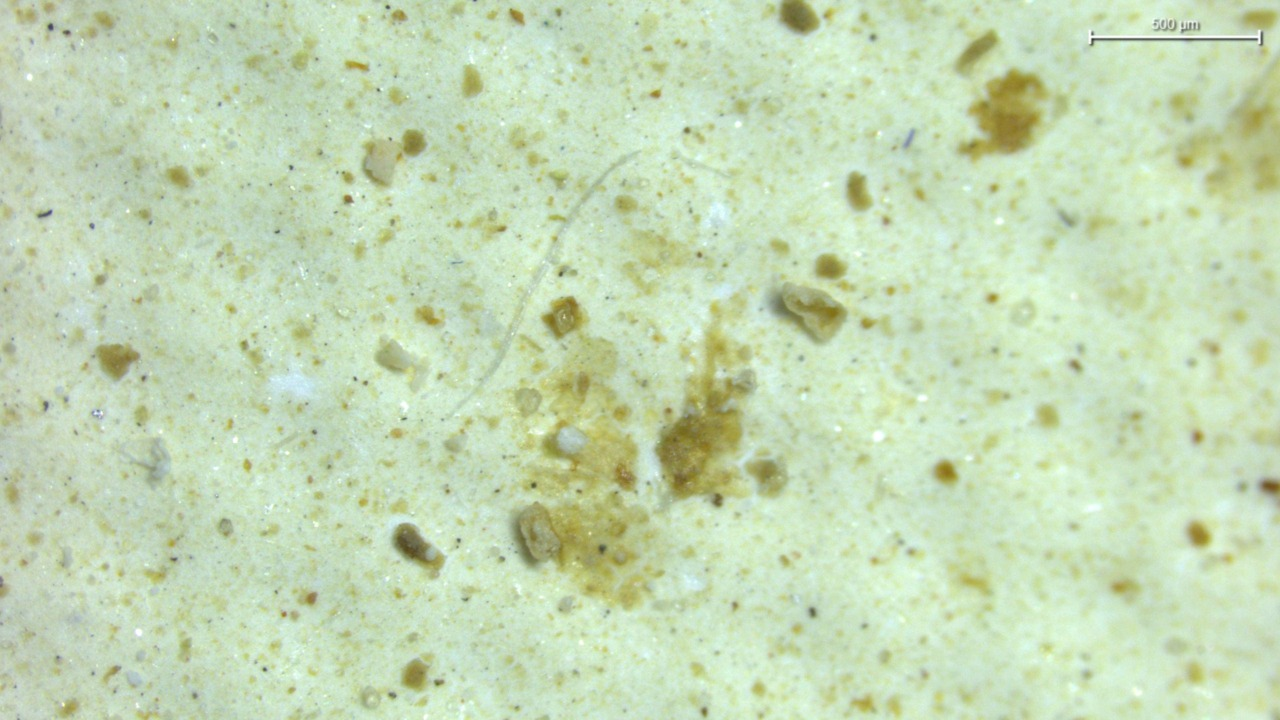microplastic_fragment: (781, 282, 846, 341), (519, 503, 561, 561), (363, 139, 402, 184), (376, 339, 413, 371), (555, 426, 589, 455), (516, 389, 542, 416)
